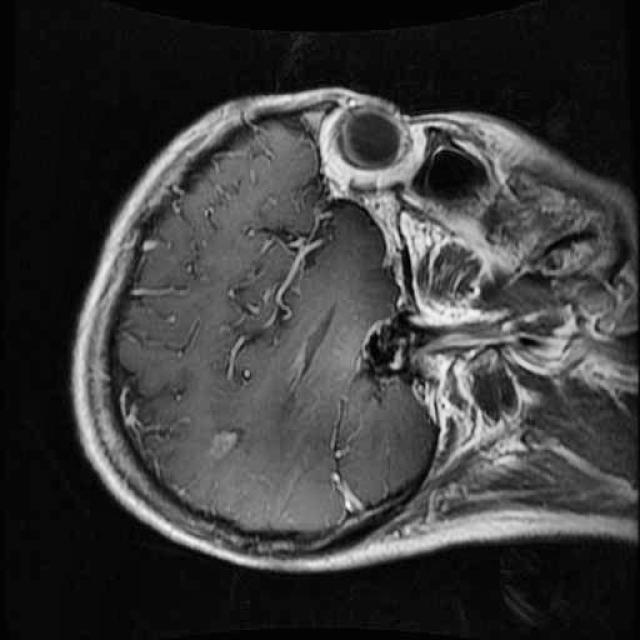Tumor: (192, 409, 256, 481)
